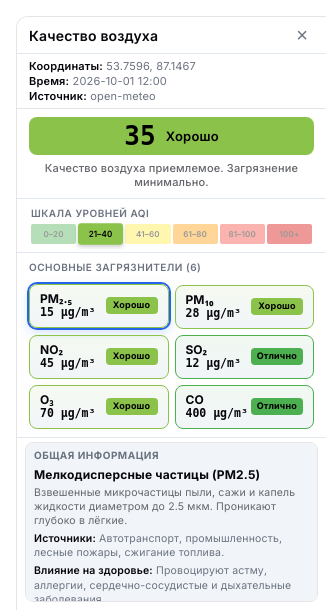
Test case: RightAirPanel component (Список 6 загрязнителей и карточка) › 3. Переключает вещество при наведении курсора (hover)
Hover over the button "O₃ 70 μg/m³ Хорошо" at (99, 407), box x1=29 y1=385 x2=168 y2=429
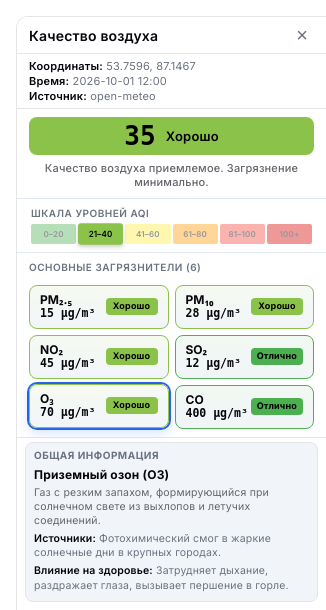
Now the text "Приземный озон (O3)" is shown, box x1=34 y1=467 x2=169 y2=482
